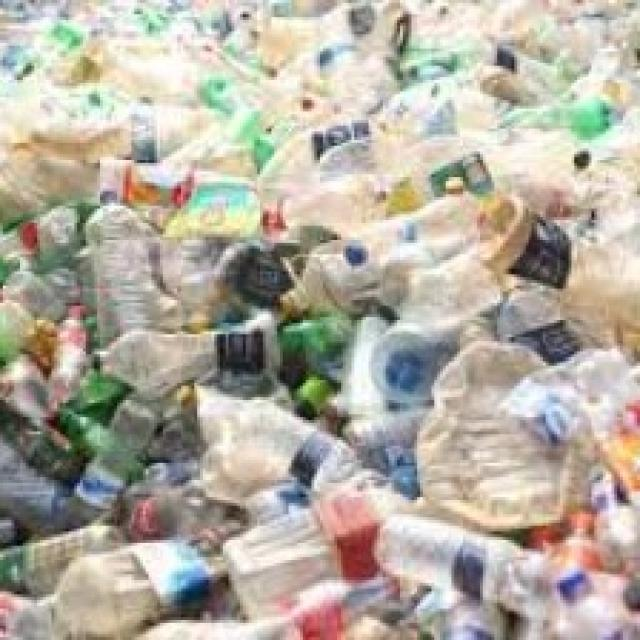heap: (38, 45, 589, 602)
plastic_bottle: (426, 318, 587, 532), (373, 503, 535, 632), (475, 194, 616, 311), (89, 318, 291, 384), (324, 183, 474, 266), (48, 305, 95, 424)
